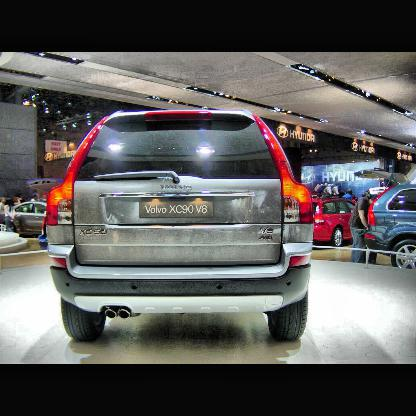Volvo XC90 SUV 2007: (48, 111, 313, 342)
